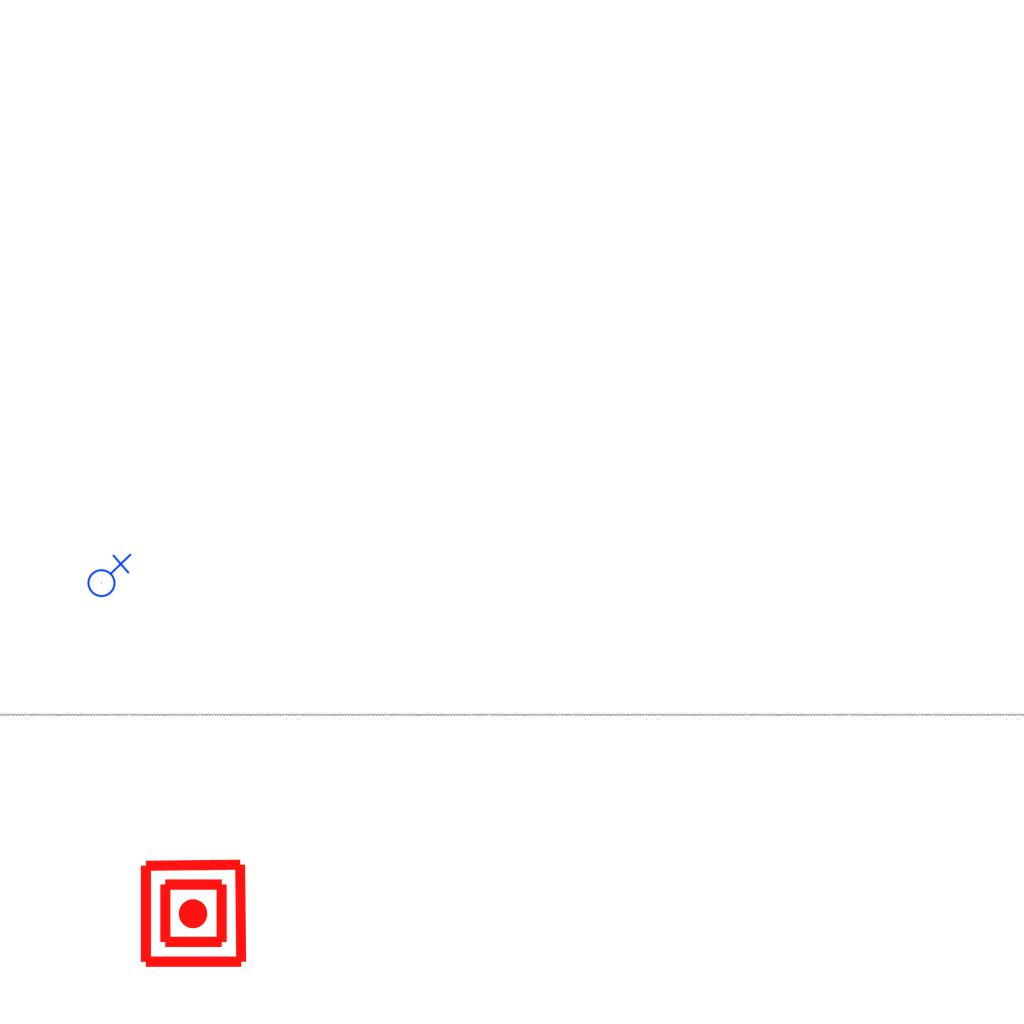Elektroanschluss_allgemein_230V_Geraeteanschlussdose_230V: (83, 551, 132, 598)
NAM-Nichtautomatischer_Melder: (137, 857, 250, 970)
